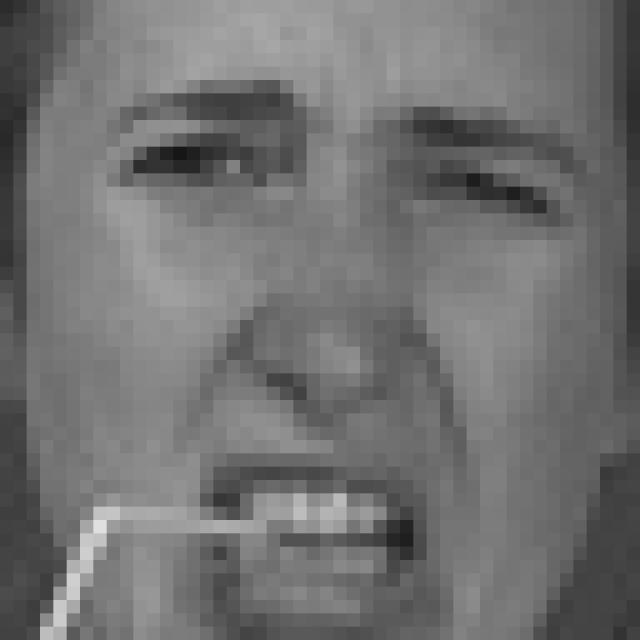disgust: (116, 79, 591, 640)
